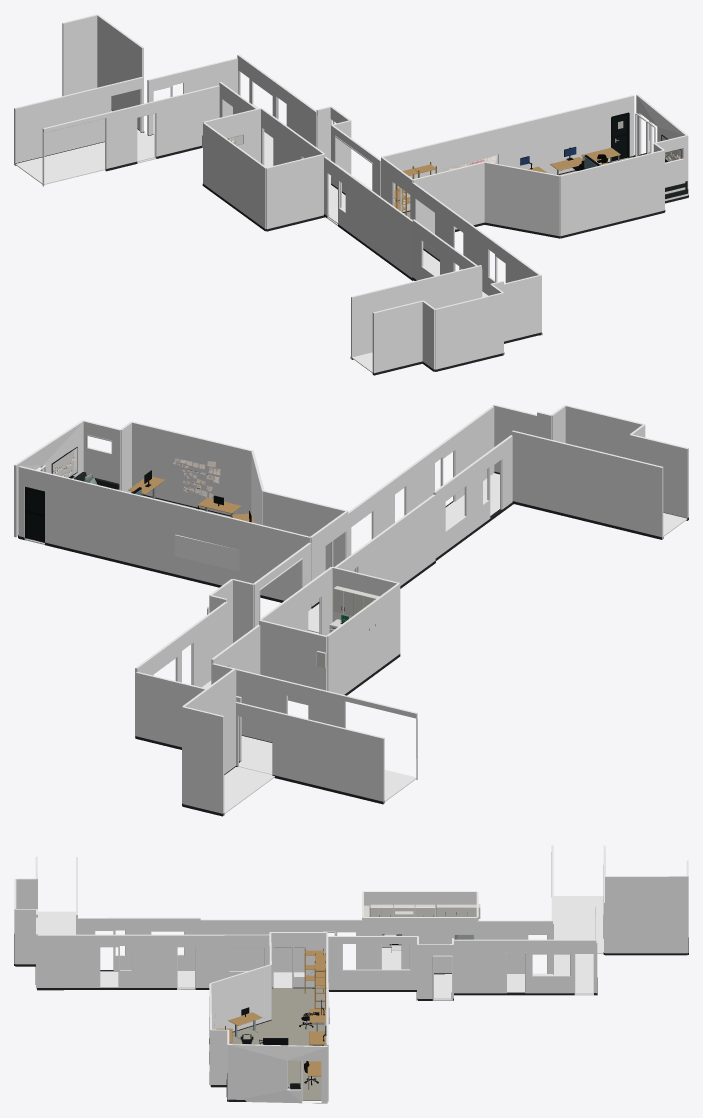
Rendered from model-1adcfcc31ee3.glb.
3 views of the same model, one above another, from view 1: azimuth 30°, elevation 25°; view 2: azimuth 150°, elevation 25°; view 3: azimuth 270°, elevation 25° (orthographic). The views are drawn at different scales.
Visible parts, largest first — view 1: architecture_region_lab-wall-1, architecture_region_lab-wall-5, architecture_region_north-inner, architecture_region_north-outer, architecture_region_lab-hall-west, architecture_region_lab-wall-6, architecture_region_west-inner, architecture_region_west-alcove-back, architecture_region_kitchen-wall-4, architecture_region_kitchen-wall-3, architecture_region_south-hall-east, architecture_region_west-outer-left (+20 smaller); view 2: architecture_region_lab-wall-1, architecture_region_west-inner, architecture_region_lab-wall-5, architecture_region_north-outer, architecture_region_south-hall-east, architecture_region_kitchen-wall-4, architecture_region_north-inner, architecture_region_lab-hall-west, architecture_region_stair-north, architecture_region_south-hall-west, architecture_region_kitchen-wall-1, architecture_region_north-entry (+22 smaller); view 3: architecture_region_south-hall-east, architecture_region_stair-east, architecture_region_central-east, architecture_region_lab-wall-2, architecture_region_lab-hall-west, architecture_floor_lab-2f, architecture_region_kitchen-wall-2, architecture_floor_north-hall-2f, architecture_region_central-east-south, architecture_region_lab-wall-6, architecture_region_south-hall-west, architecture_region_central-west (+11 smaller).
Boxes of the visible parts, <box> form: architecture_region_lab-wall-1: <box>381,95,634,211</box>; architecture_region_lab-wall-5: <box>560,150,664,237</box>; architecture_region_north-inner: <box>42,85,219,186</box>; architecture_region_north-outer: <box>14,85,108,165</box>; architecture_region_lab-hall-west: <box>324,156,412,277</box>; architecture_region_lab-wall-6: <box>484,161,560,236</box>; architecture_region_west-inner: <box>351,265,481,359</box>; architecture_region_west-alcove-back: <box>434,292,503,369</box>; architecture_region_kitchen-wall-4: <box>203,122,266,228</box>; architecture_region_kitchen-wall-3: <box>266,154,324,229</box>; architecture_region_south-hall-east: <box>412,182,541,335</box>; architecture_region_west-outer-left: <box>372,300,422,373</box>; architecture_region_lab-wall-1: <box>18,466,310,600</box>; architecture_region_west-inner: <box>511,430,663,539</box>; architecture_region_lab-wall-5: <box>131,421,253,515</box>; architecture_region_north-outer: <box>275,711,384,803</box>; architecture_region_south-hall-east: <box>348,405,494,571</box>; architecture_region_kitchen-wall-4: <box>326,583,400,694</box>; architecture_region_north-inner: <box>211,663,417,779</box>; architecture_region_lab-hall-west: <box>335,494,435,585</box>; architecture_region_stair-north: <box>182,706,224,815</box>; architecture_region_south-hall-west: <box>433,435,512,557</box>; architecture_region_kitchen-wall-1: <box>259,620,327,705</box>; architecture_region_north-entry: <box>135,672,241,761</box>; architecture_region_south-hall-east: <box>37,934,269,989</box>; architecture_region_stair-east: <box>605,876,687,953</box>; architecture_region_central-east: <box>454,939,596,995</box>; architecture_region_lab-wall-2: <box>228,1044,327,1103</box>; architecture_region_lab-hall-west: <box>200,919,362,972</box>; architecture_floor_lab-2f: <box>229,988,326,1100</box>; architecture_region_kitchen-wall-2: <box>363,917,476,973</box>; architecture_floor_north-hall-2f: <box>553,896,603,994</box>; architecture_region_central-east-south: <box>328,936,417,989</box>; architecture_region_lab-wall-6: <box>210,964,271,1031</box>; architecture_region_south-hall-west: <box>77,917,200,970</box>; architecture_region_central-west: <box>477,920,552,973</box>.
Bounding box in the file's own units: 24.21 × 4.21 × 32.79.
49 materials, 4 textured.
